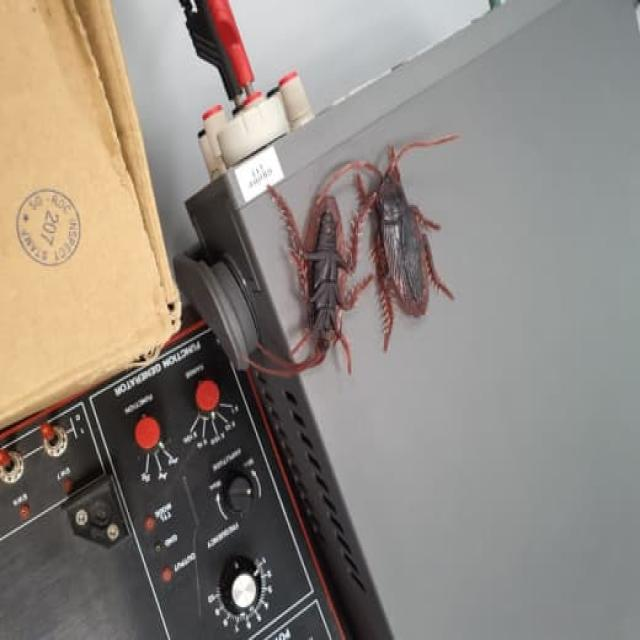Cockroach: (253, 166, 378, 395), (346, 142, 456, 362)
